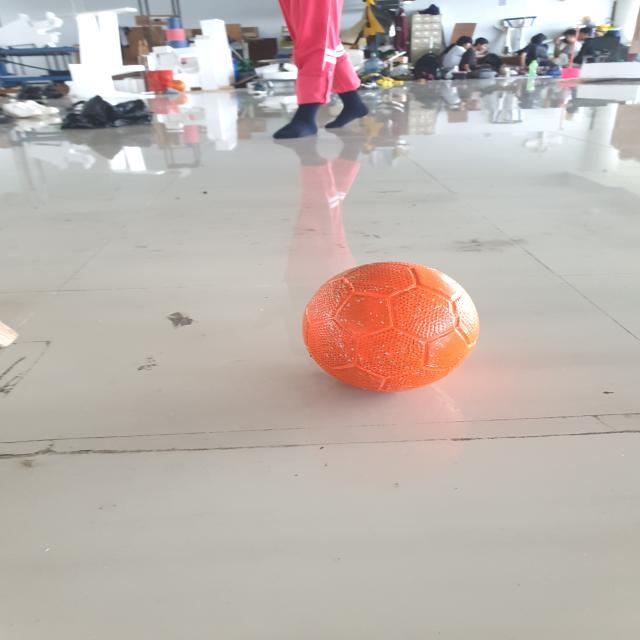bola: (294, 249, 498, 402)
